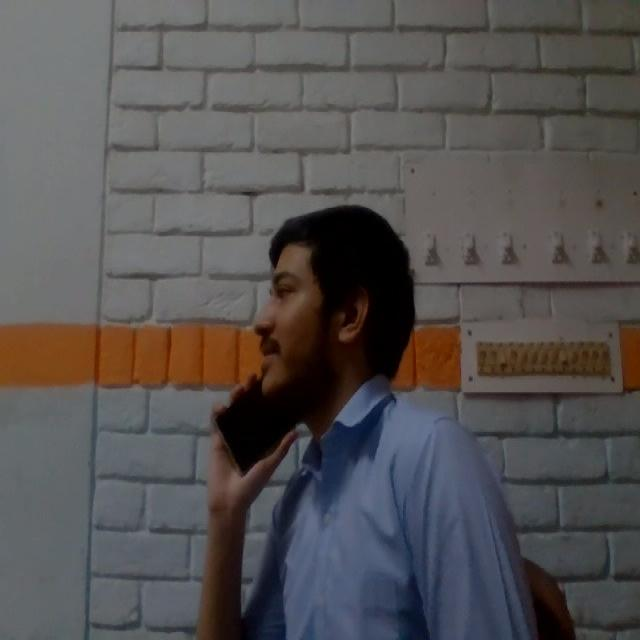oncall: (166, 202, 554, 640)
phone: (206, 374, 310, 476)
